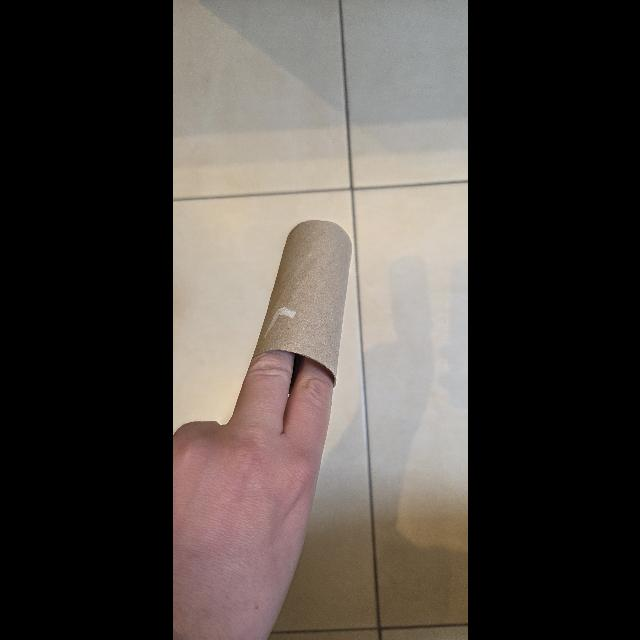Cardboard: (252, 222, 348, 384)
